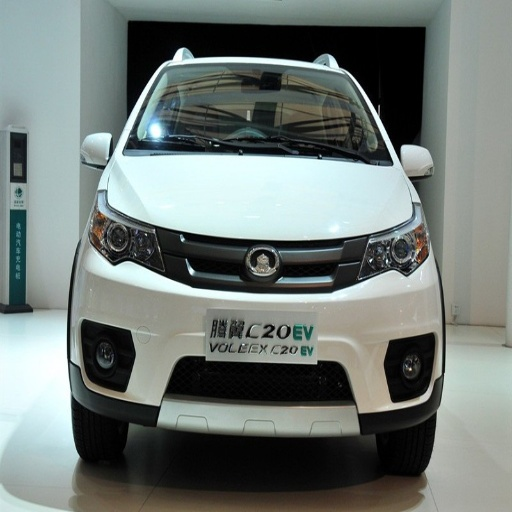front_bumper: (67, 226, 440, 437)
front_right_light: (88, 208, 165, 273)
hood: (105, 155, 413, 238)
